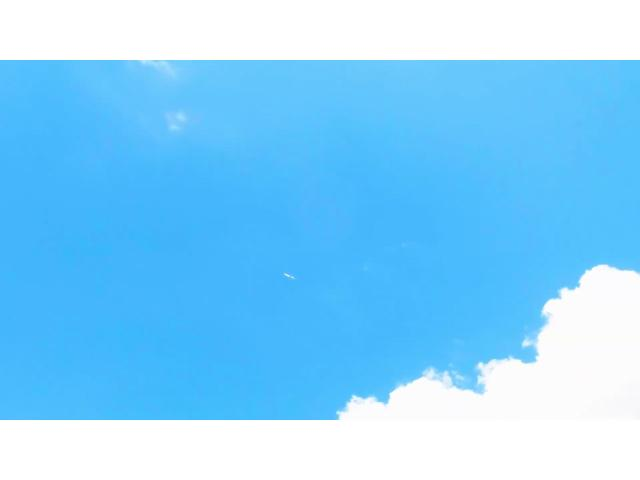Anti-Drone: (275, 268, 305, 284)
